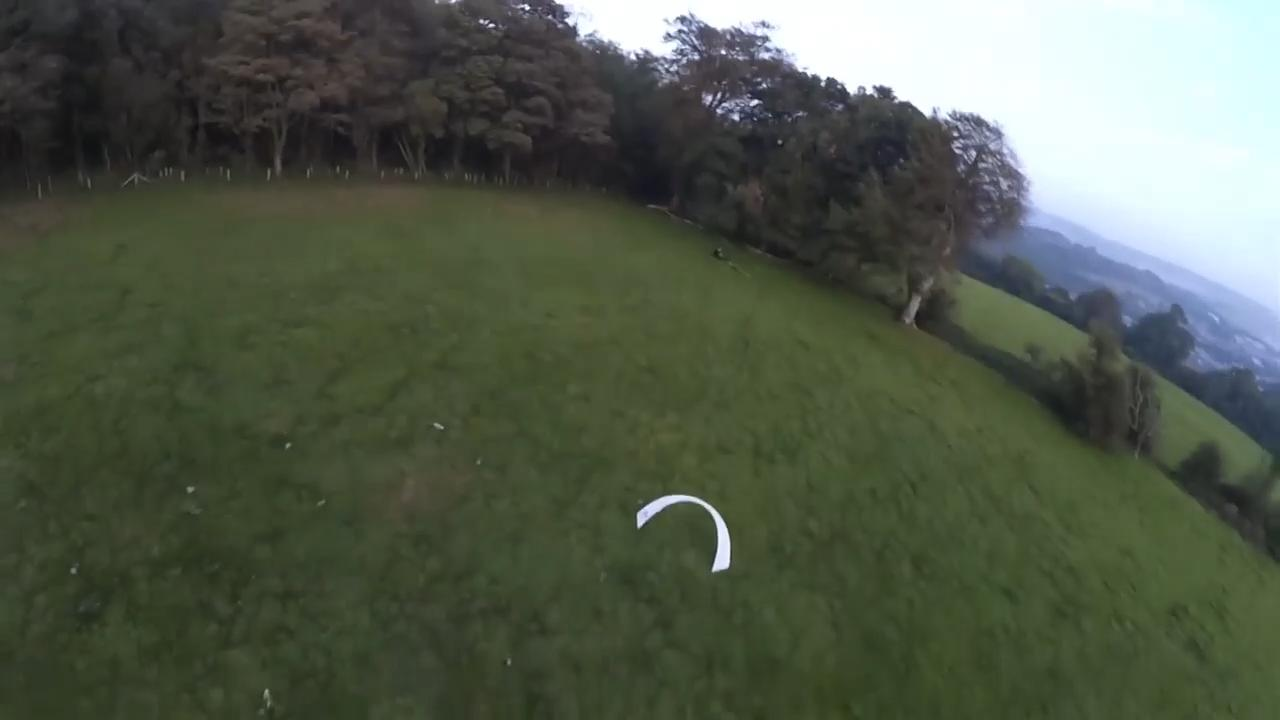gate: (635, 492, 731, 573)
